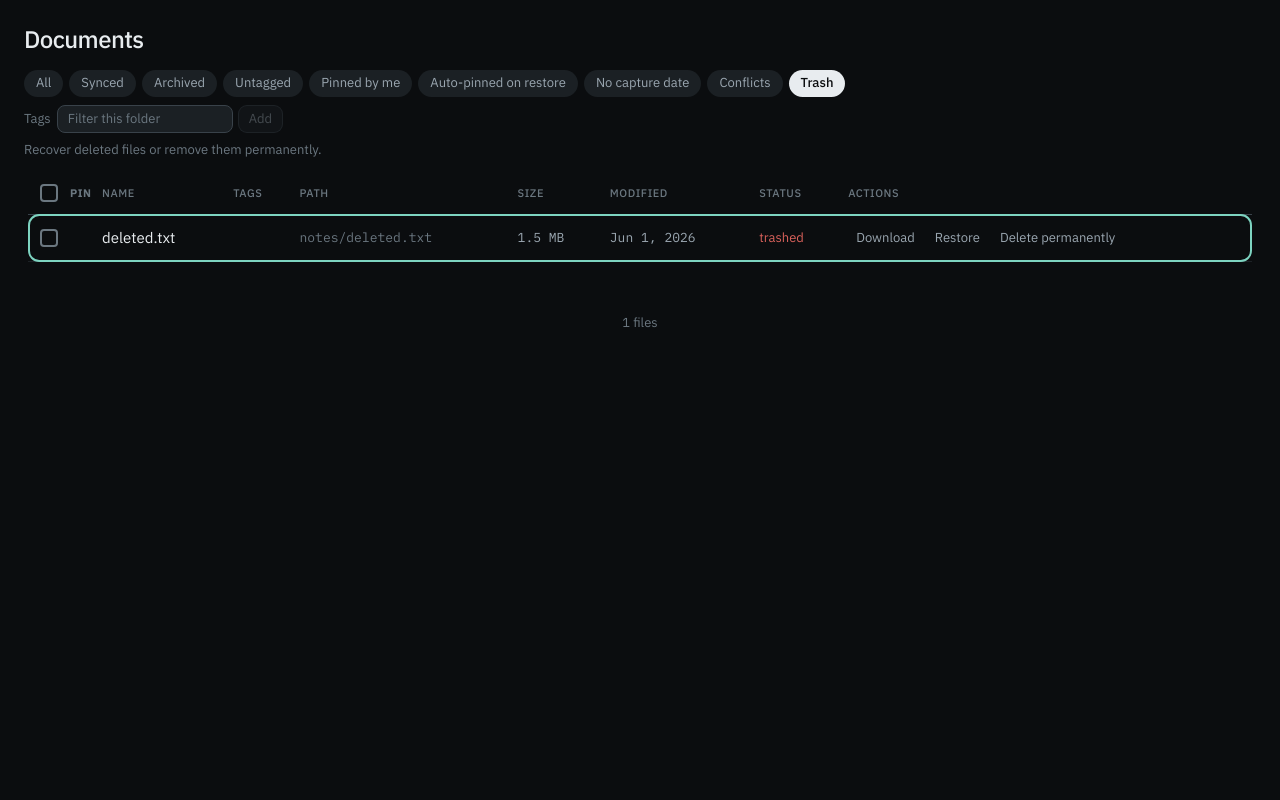
Test: FileBrowser › should offer restore and confirmed permanent deletion in the trash view
Check: the button "deleted.txt" is shown, box [102,227,175,249]
Check: the button "Restore" is shown, box [927,225,988,251]
What coordinates should you click on to do the following:
click the button "Delete permanently"
I would click on:
 (1058, 238)
Its box is [992,225,1123,251].
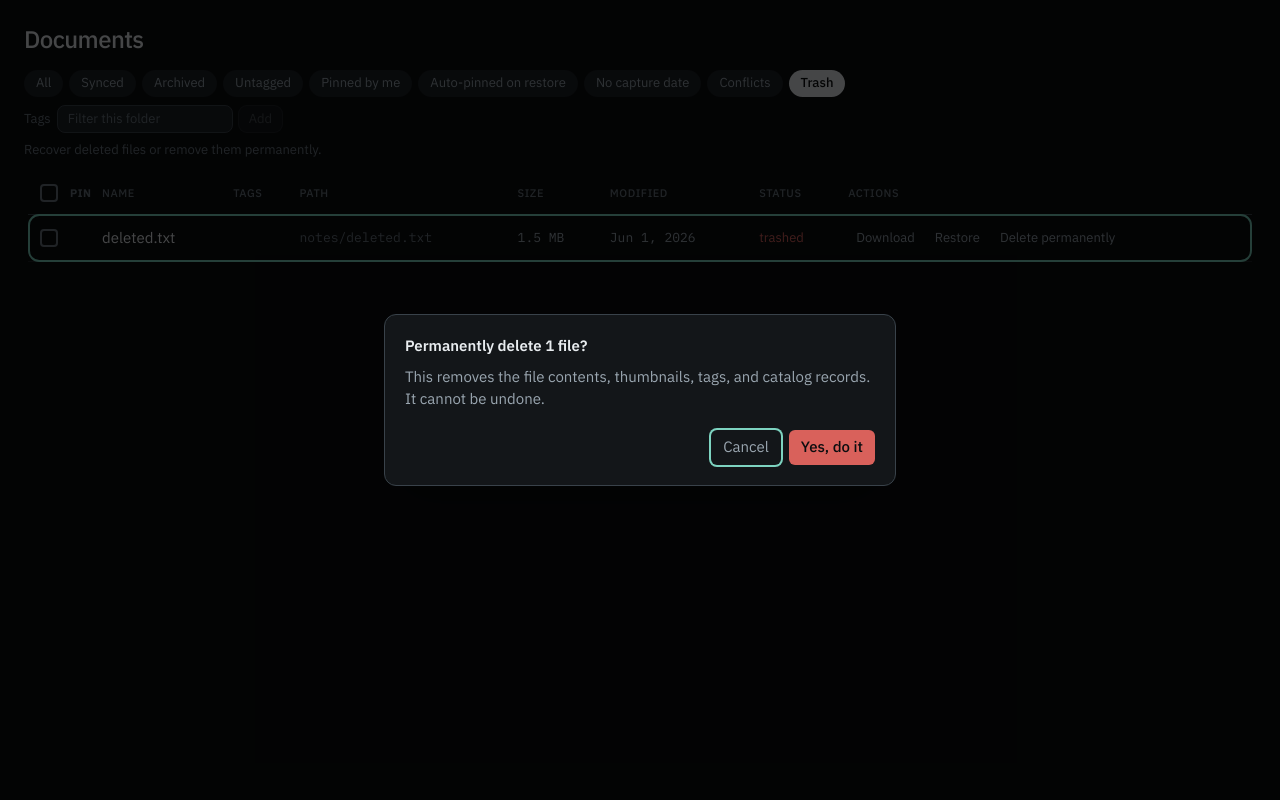
Check: the dialog shows "Permanently delete 1 file?", box [405,336,587,355]
Check: the dialog shows "It cannot be undone", box [405,367,870,408]
